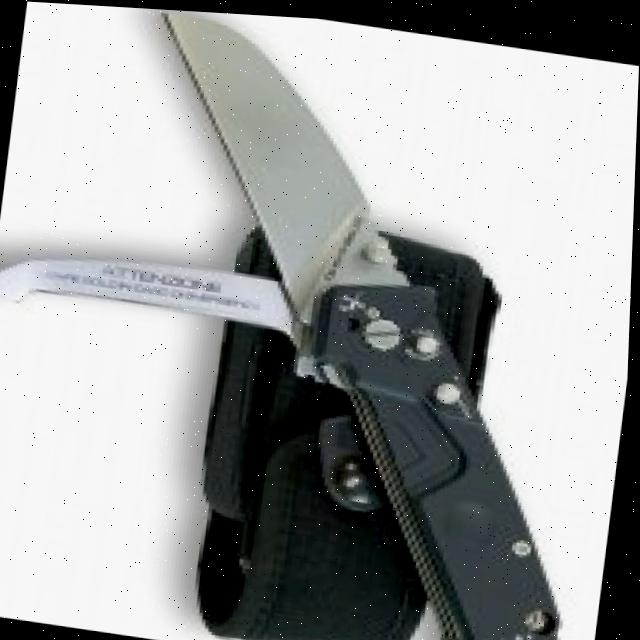knife: (80, 5, 636, 640)
